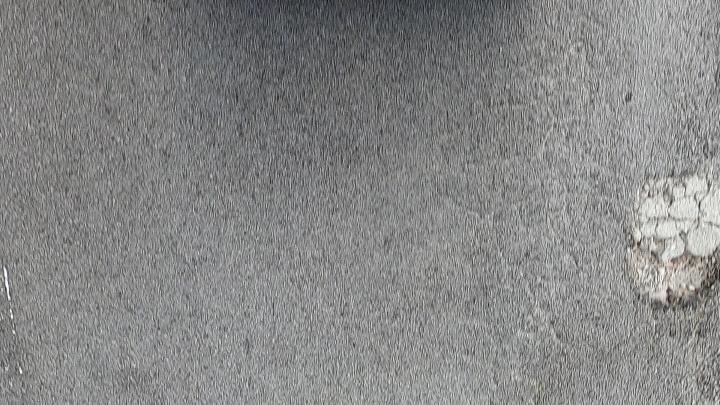Pothole: (624, 156, 720, 317), (628, 161, 719, 301)
